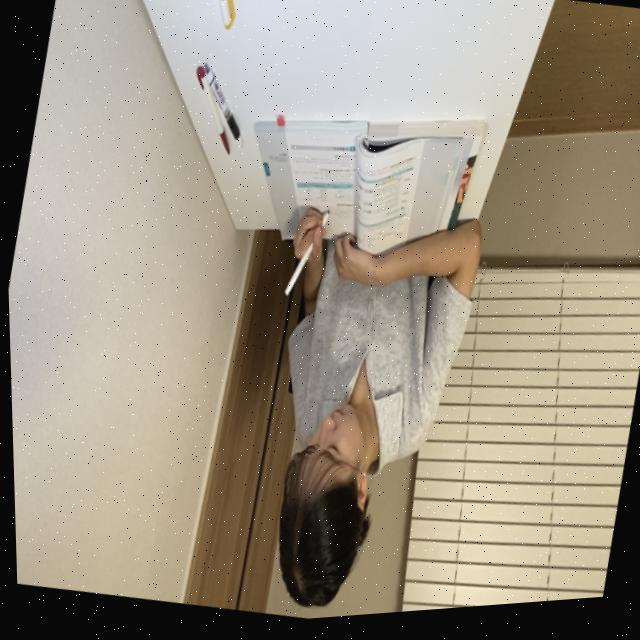studying-person: (155, 59, 527, 631)
